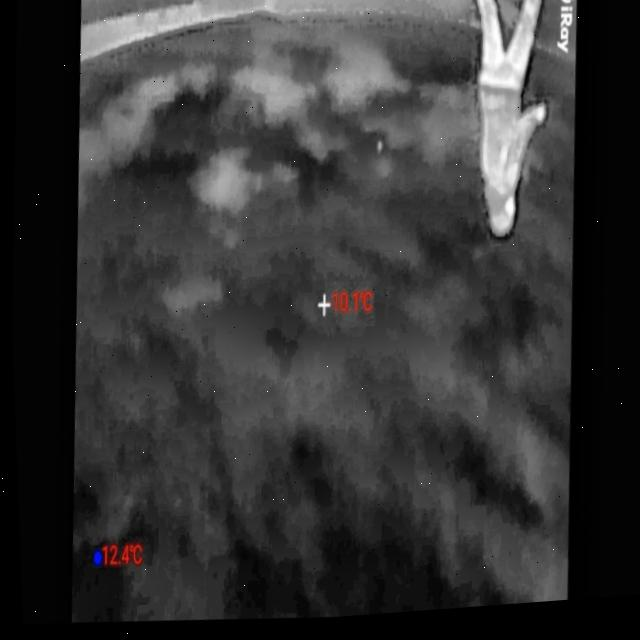drone: (371, 143, 382, 160)
